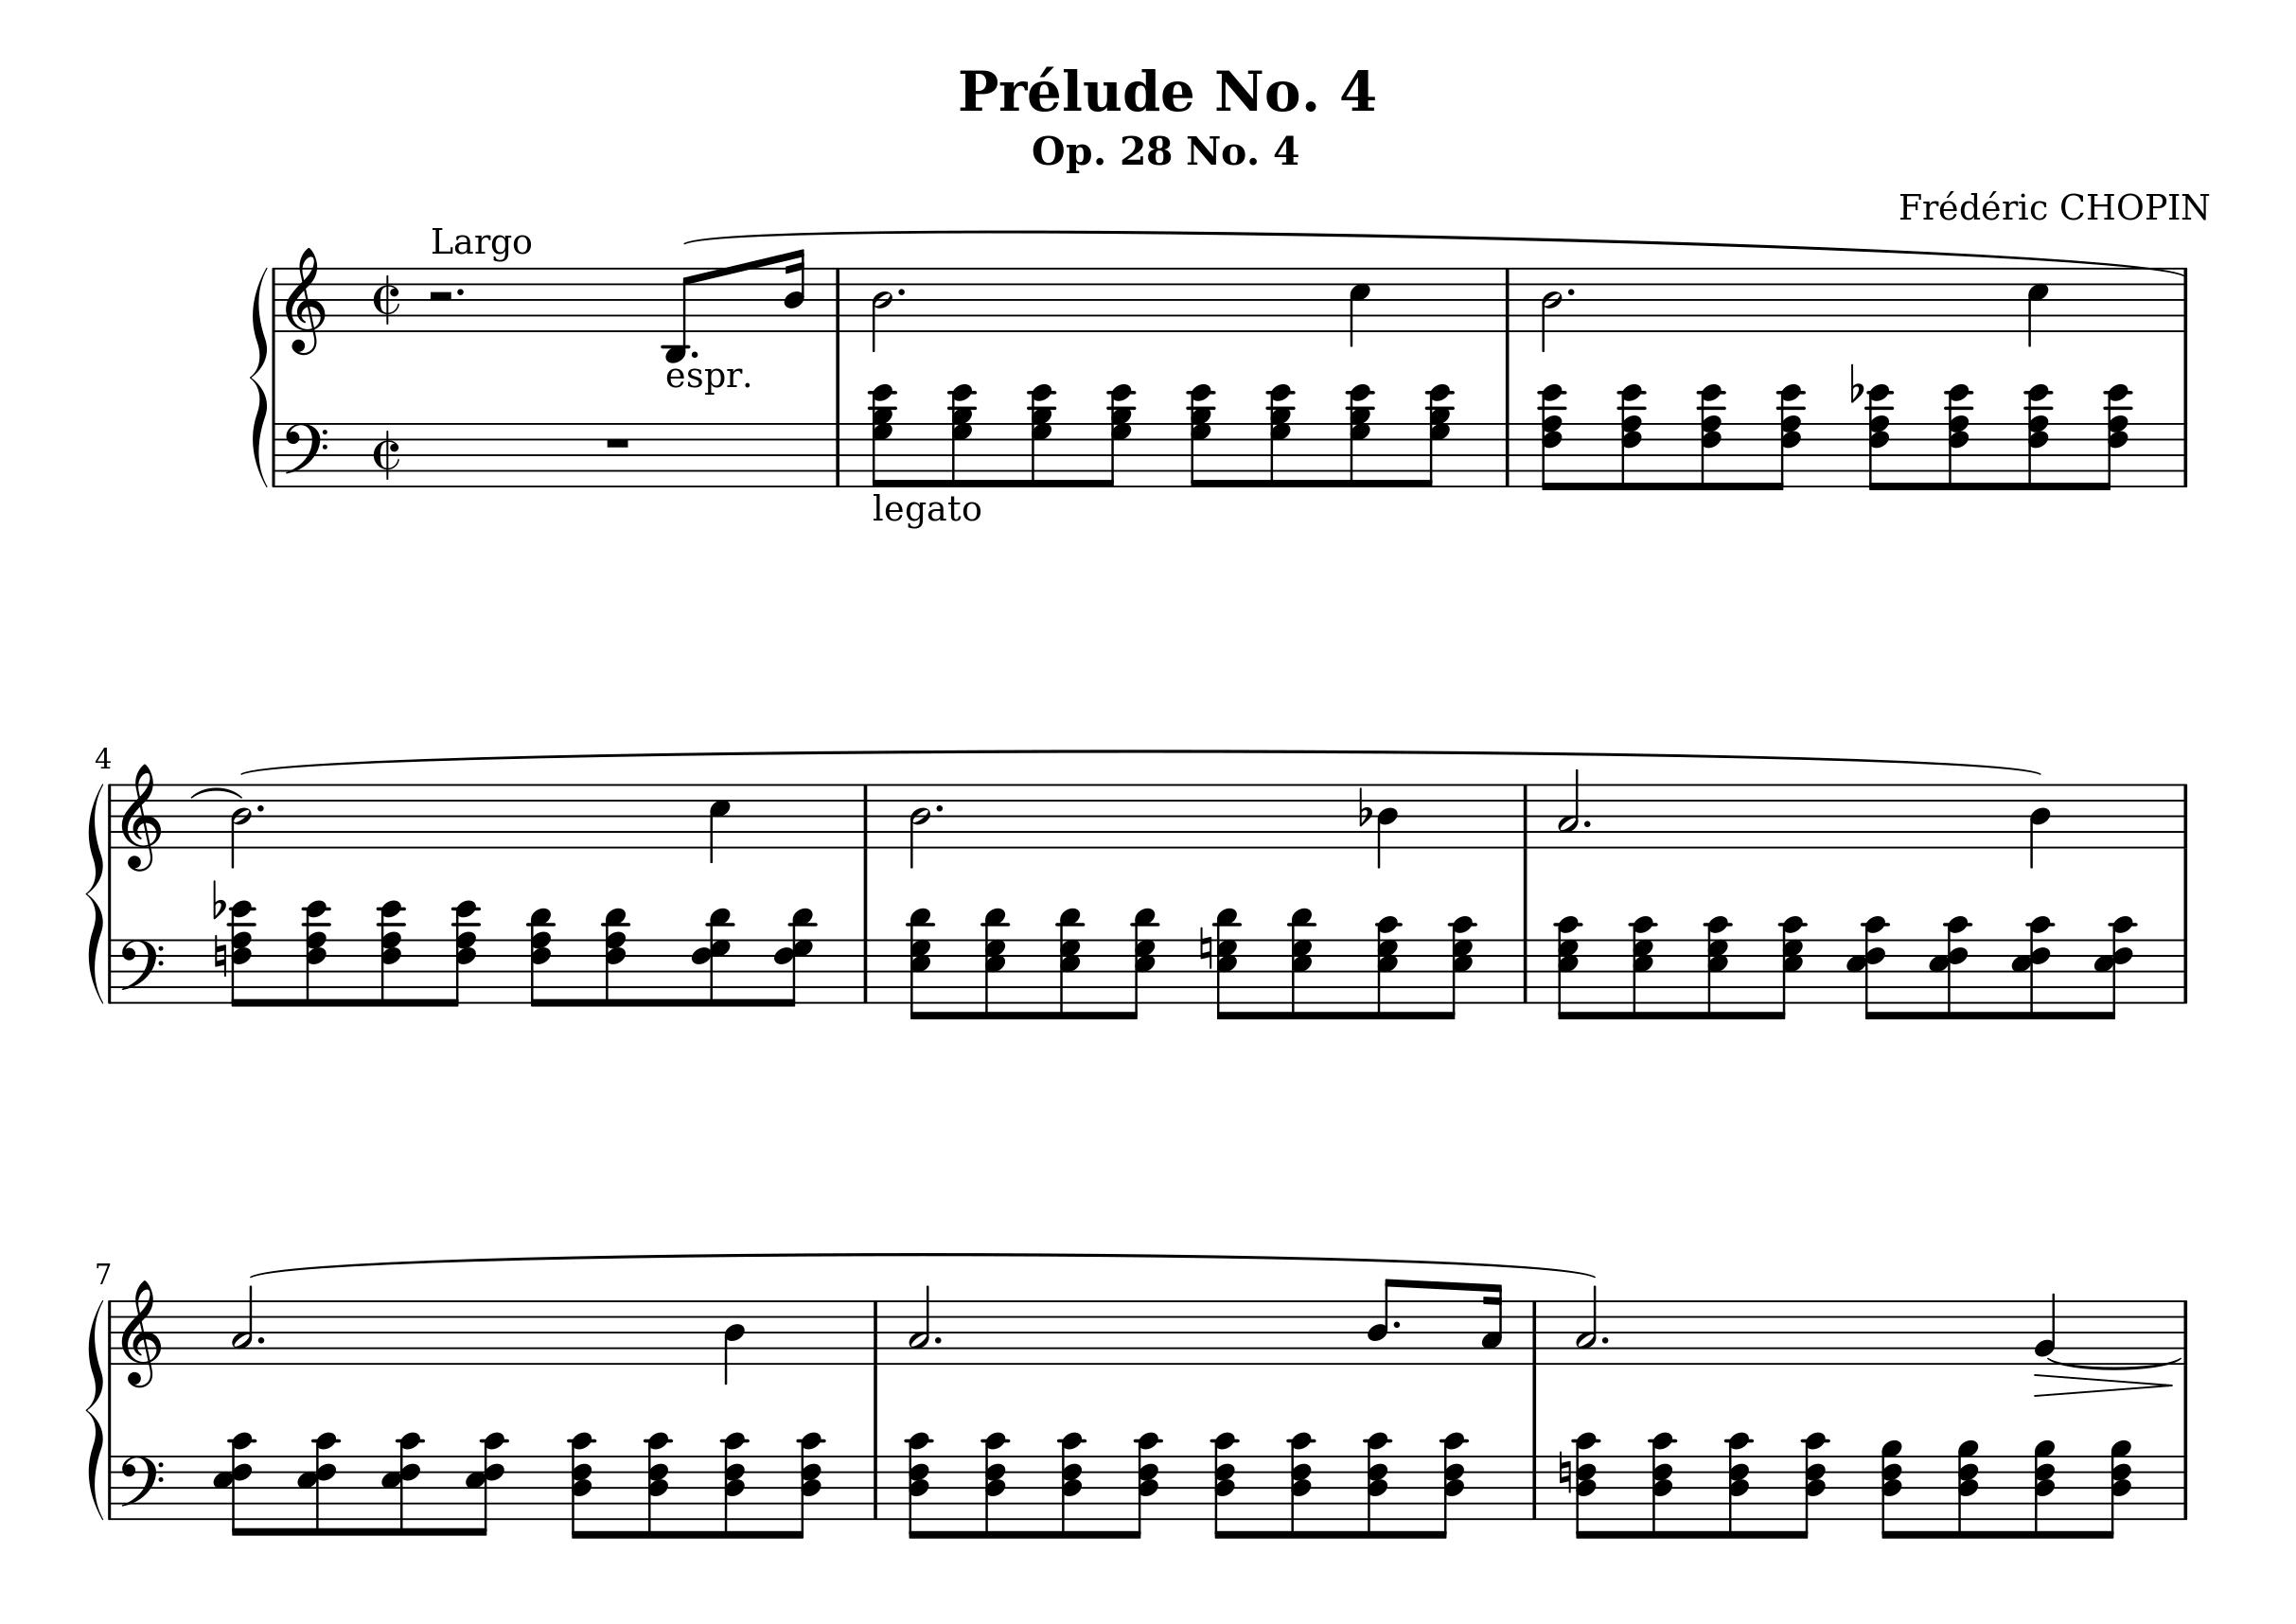16_3: (1479, 1281, 1505, 1366)
16_4: (783, 248, 808, 334)
2_3: (1556, 766, 1581, 851), (230, 1283, 255, 1366), (906, 1283, 931, 1366), (1574, 1283, 1599, 1366)
2_4: (228, 780, 255, 870), (870, 265, 896, 353), (1539, 265, 1565, 353), (908, 780, 933, 870)
4: (93, 743, 112, 770)
4_2: (2034, 1288, 2059, 1366)
4_4: (2027, 780, 2054, 868), (1375, 780, 1400, 870), (722, 1297, 747, 1387)
4_5: (2025, 265, 2052, 350), (706, 780, 733, 865), (1347, 264, 1372, 350)
7: (95, 1257, 112, 1285)
8_-3: (662, 265, 694, 362)
8_4: (1365, 1274, 1398, 1366)
8_th: (2092, 914, 2136, 1019), (2013, 914, 2055, 1021), (214, 1429, 256, 1536), (297, 1429, 339, 1536), (773, 905, 817, 1007), (787, 1429, 827, 1540), (1848, 914, 1890, 1019), (1931, 912, 1971, 1021), (1432, 1427, 1470, 1540), (383, 1429, 423, 1536), (466, 1429, 506, 1536), (692, 905, 734, 1007), (1126, 1429, 1165, 1540), (1439, 912, 1477, 1019), (444, 896, 481, 1007), (1794, 1429, 1830, 1540), (1124, 903, 1159, 1018), (1419, 380, 1456, 487), (2097, 383, 2134, 490), (1771, 912, 1808, 1019), (566, 1427, 601, 1540), (1771, 380, 1806, 490), (641, 1429, 676, 1540), (1284, 1429, 1319, 1540), (1286, 903, 1319, 1019), (978, 903, 1012, 1019), (717, 1429, 752, 1538), (978, 1429, 1014, 1538), (1056, 1429, 1091, 1538), (1943, 380, 1976, 490), (2022, 380, 2055, 490), (1646, 1429, 1679, 1540), (1723, 1429, 1757, 1540), (1212, 903, 1244, 1019), (1695, 381, 1729, 490), (1361, 1429, 1395, 1538), (945, 380, 978, 487), (1265, 380, 1298, 487), (1372, 912, 1405, 1019), (1702, 912, 1736, 1019), (1103, 381, 1137, 487), (1616, 380, 1648, 490), (300, 896, 332, 1007), (227, 896, 258, 1007), (376, 896, 408, 1007), (905, 1429, 936, 1540), (1210, 1429, 1242, 1540), (1572, 1429, 1604, 1540), (906, 903, 936, 1019), (1056, 903, 1086, 1019), (599, 903, 632, 1007), (1537, 380, 1569, 489), (1026, 380, 1058, 487), (1186, 380, 1217, 487), (1346, 380, 1377, 487), (1864, 383, 1895, 490), (1553, 912, 1585, 1019), (1627, 912, 1658, 1019), (525, 903, 557, 1007), (2101, 1436, 2133, 1538), (868, 381, 898, 489), (1878, 1436, 1906, 1538), (2032, 1436, 2059, 1540), (1955, 1436, 1982, 1538)
Brace: (248, 264, 271, 490), (84, 780, 105, 1005), (84, 1295, 105, 1520)
Diminuendo_hairpin: (2034, 1369, 2175, 1397)
Fclef: (119, 1454, 170, 1522), (118, 937, 167, 1005), (283, 422, 332, 476)
Flat: (1846, 360, 1866, 404), (1354, 784, 1372, 828), (211, 875, 227, 919)
Gclef: (119, 1278, 167, 1390), (119, 761, 165, 872), (285, 244, 327, 357)
Natural: (213, 932, 228, 979), (1198, 924, 1214, 970), (1556, 1448, 1572, 1494)
Rests1: (603, 432, 634, 453)
Rests2: (425, 286, 457, 304)
Single_barline: (864, 1301, 885, 1362), (1516, 784, 1535, 847), (866, 1455, 885, 1519), (1525, 1455, 1544, 1519), (1516, 937, 1534, 1002), (2177, 1299, 2194, 1364), (829, 267, 847, 330), (1498, 422, 1516, 485), (829, 424, 847, 487), (857, 784, 875, 847), (857, 939, 875, 1002), (2175, 939, 2192, 1002), (1525, 1301, 1542, 1364), (2175, 1455, 2192, 1519), (1498, 269, 1516, 330), (2175, 424, 2192, 485), (267, 267, 283, 330), (2177, 267, 2192, 330), (2177, 784, 2192, 845), (269, 424, 283, 487), (104, 784, 118, 847), (105, 939, 119, 1002), (104, 1301, 118, 1364), (105, 1455, 119, 1519)
Slur: (2041, 1355, 2180, 1371), (190, 784, 244, 801)
TimeSig: (372, 265, 406, 334), (372, 424, 404, 487), (372, 265, 402, 330), (372, 424, 402, 487)
dot: (896, 285, 908, 299), (1565, 285, 1578, 299), (933, 801, 945, 816), (1581, 817, 1593, 830), (1599, 1334, 1611, 1346), (457, 285, 467, 299), (690, 348, 701, 362), (255, 801, 265, 816), (1391, 1318, 1402, 1330), (255, 1332, 265, 1345), (933, 1334, 943, 1346)
